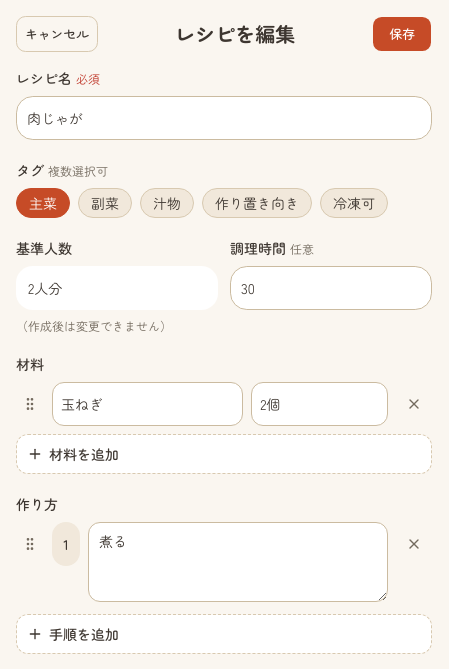
Test: RecipeEditFormClient › REF-04: API が失敗レスポンスのときエラーメッセージを表示する
Click the button "保存" at (402, 34), box [372,16,432,52]
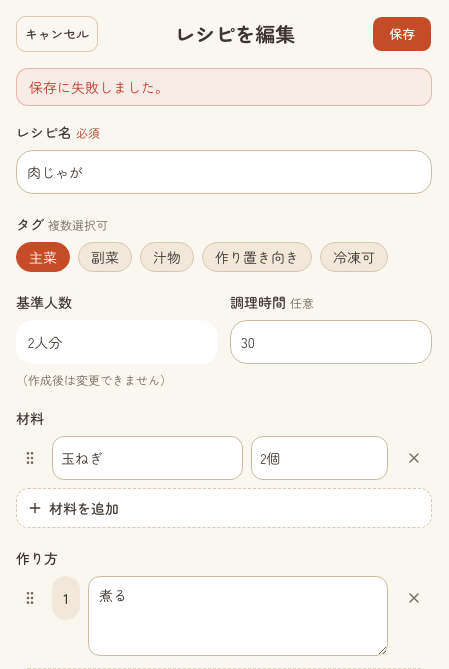
Result: the text "保存に失敗しました。" is shown at [16,68,432,106]
